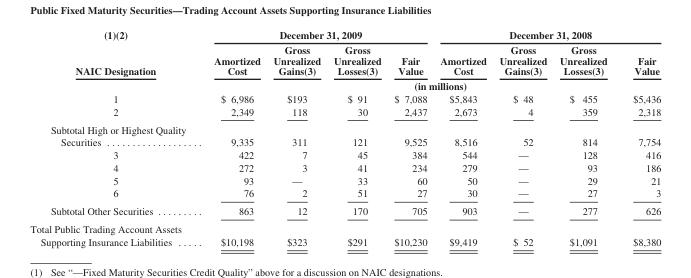table: (29, 28, 660, 247)
table column: (29, 28, 199, 247), (199, 28, 266, 247), (552, 28, 619, 247), (326, 28, 387, 247), (266, 28, 326, 247), (492, 28, 552, 247), (433, 28, 492, 247), (387, 28, 433, 247), (619, 28, 660, 247)
table column header: (29, 28, 660, 92)
table row: (29, 42, 660, 77), (29, 120, 660, 148), (29, 219, 660, 247), (29, 201, 660, 219), (29, 104, 660, 120), (29, 77, 660, 92), (29, 186, 660, 201), (29, 28, 660, 42), (29, 148, 660, 161), (29, 173, 660, 186), (29, 92, 660, 104), (29, 161, 660, 173)
table spanning cell: (29, 28, 199, 92), (199, 42, 266, 92), (552, 42, 619, 92), (199, 28, 433, 42), (433, 28, 660, 42), (326, 42, 387, 92), (266, 42, 326, 92), (492, 42, 552, 92), (619, 42, 660, 92), (387, 77, 492, 92)
